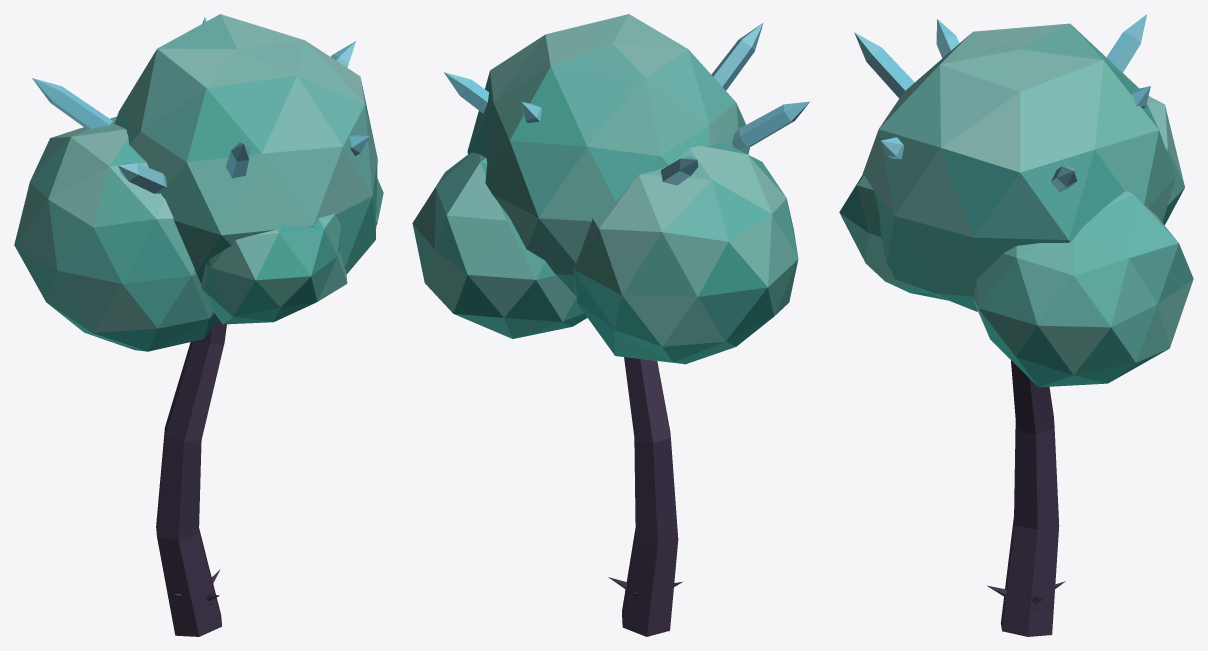
File: Tree_Aether_B.fbx
The picture shows the model from 3 angles, left to right: view 1: azimuth 30°, elevation 25°; view 2: azimuth 150°, elevation 25°; view 3: azimuth 270°, elevation 25°; orthographic projection. The views are drawn at different scales.
Visible parts, largest first — view 1: Tree_Aether_B; view 2: Tree_Aether_B; view 3: Tree_Aether_B.
Part boxes in pixels (x1=…): Tree_Aether_B: x1=14, y1=14, x2=383, y2=636; Tree_Aether_B: x1=412, y1=14, x2=810, y2=636; Tree_Aether_B: x1=839, y1=14, x2=1193, y2=636.
Bounding box in the file's own units: 2.76 × 4.36 × 2.32.
